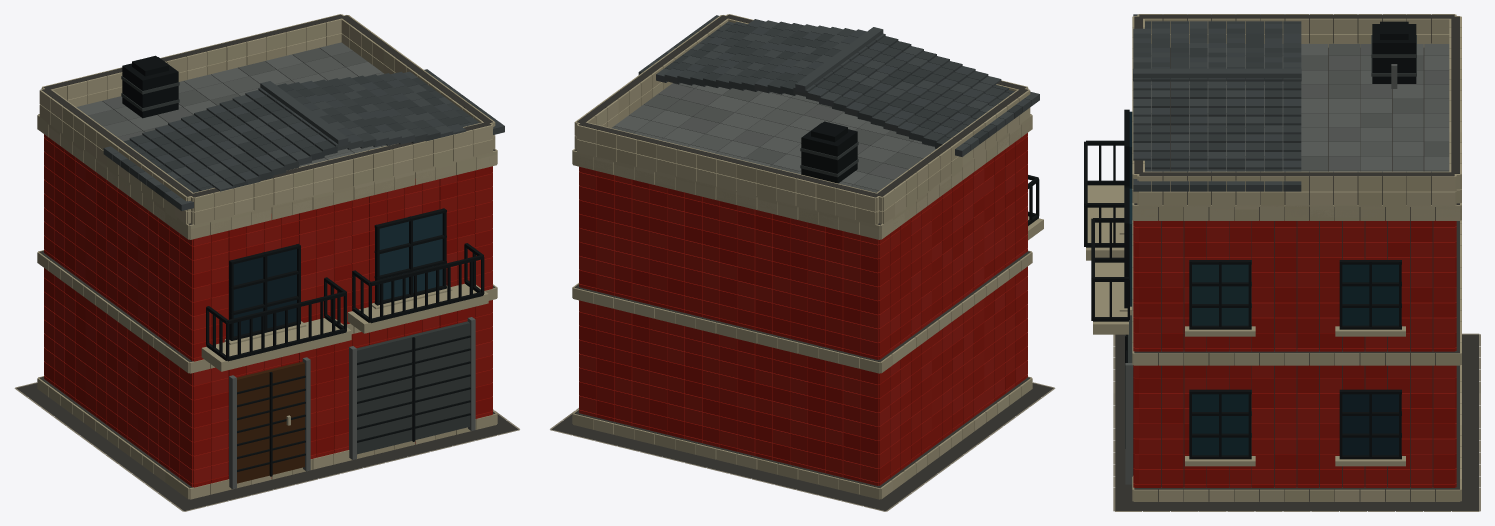
The model's file is SM_Mapa_047.fbx.
3 renders of one model, left to right at view 1: azimuth 30°, elevation 25°; view 2: azimuth 150°, elevation 25°; view 3: azimuth 270°, elevation 25°, orthographic. The views are drawn at different scales.
Parts seen in each view (by area): view 1: SM_Mapa_047; view 2: SM_Mapa_047; view 3: SM_Mapa_047.
Part boxes in pixels (x1,y1,x2,y2): SM_Mapa_047: (14,14,519,511); SM_Mapa_047: (550,14,1055,511); SM_Mapa_047: (1084,14,1480,511).
Bounding box in the file's own units: 8 × 7.53 × 7.47.
